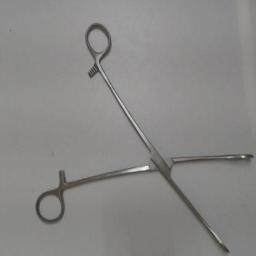Sponge Forceps: (32, 18, 256, 254)
